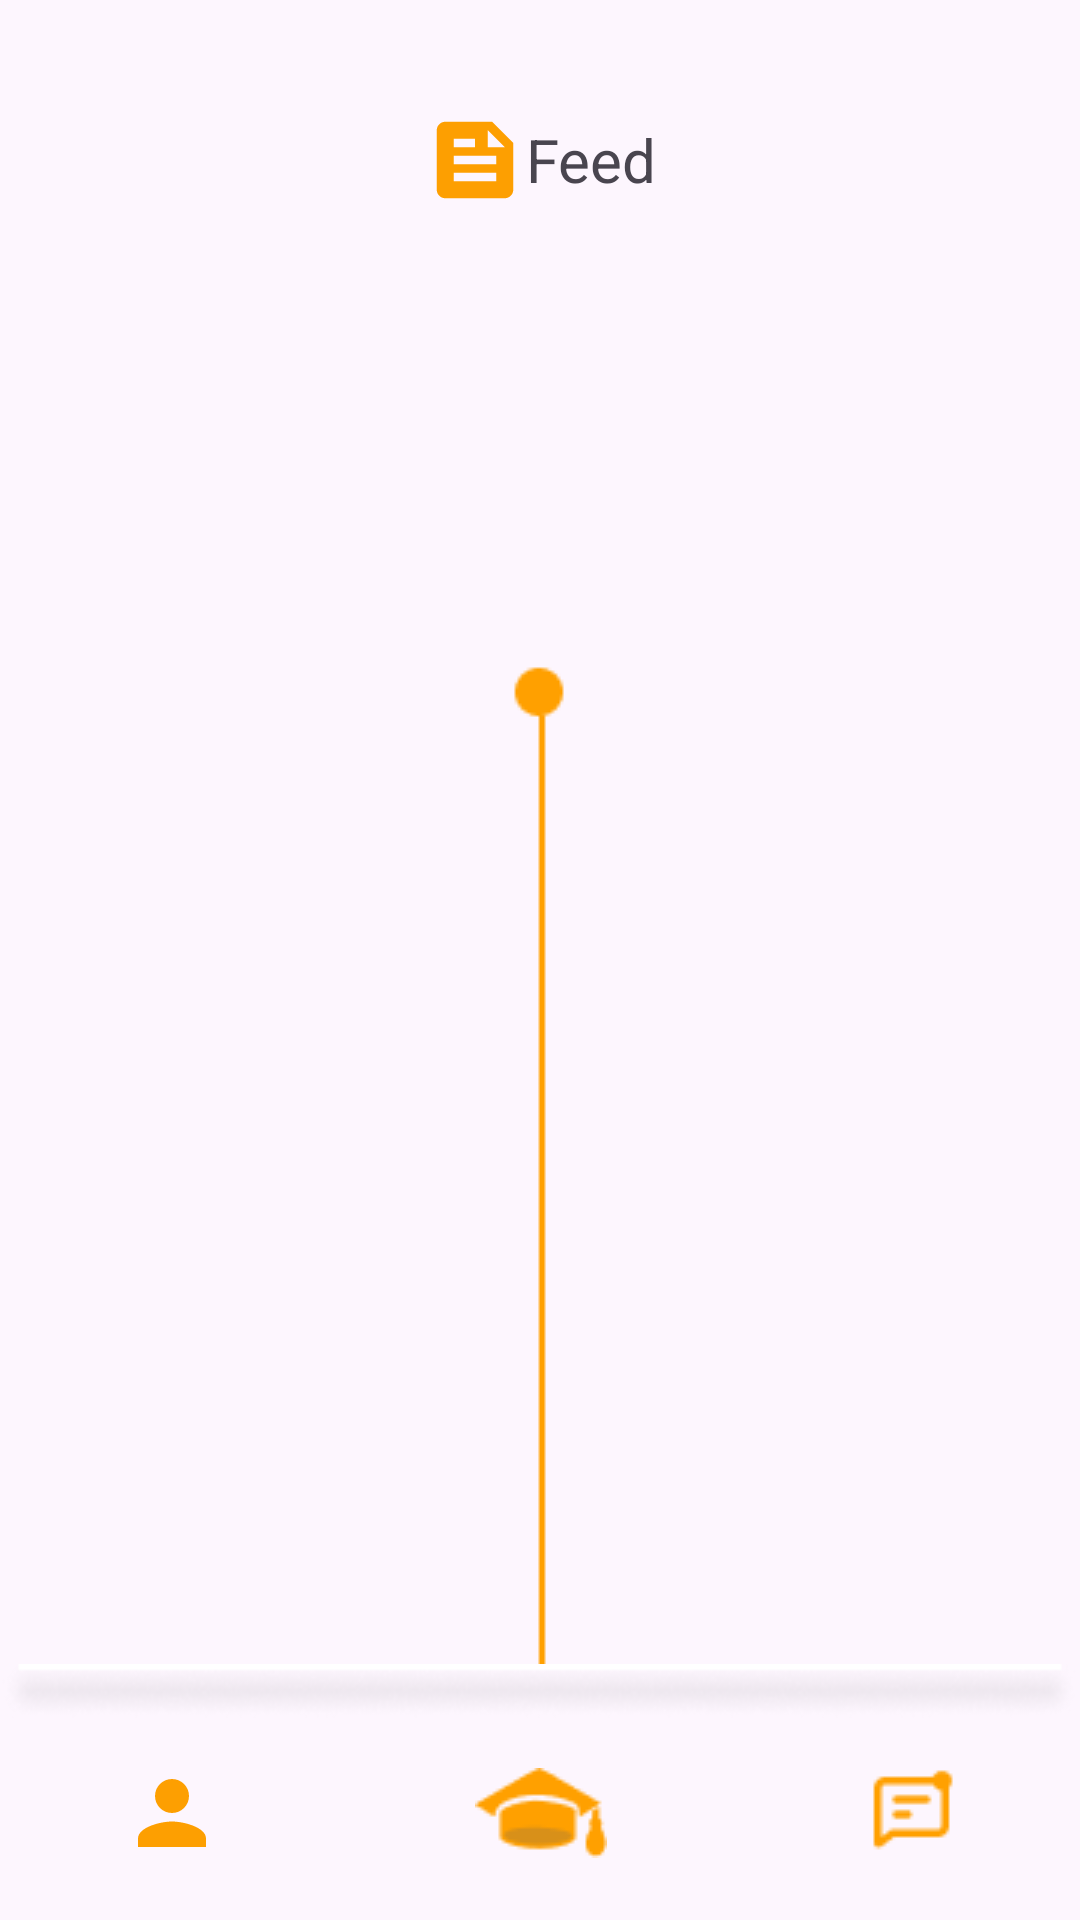

Screen size 1080x1920. Icon name, then its center in pixels as point (x, y):
notifimenuorange: point (913, 1810)
person: point (172, 1813)
